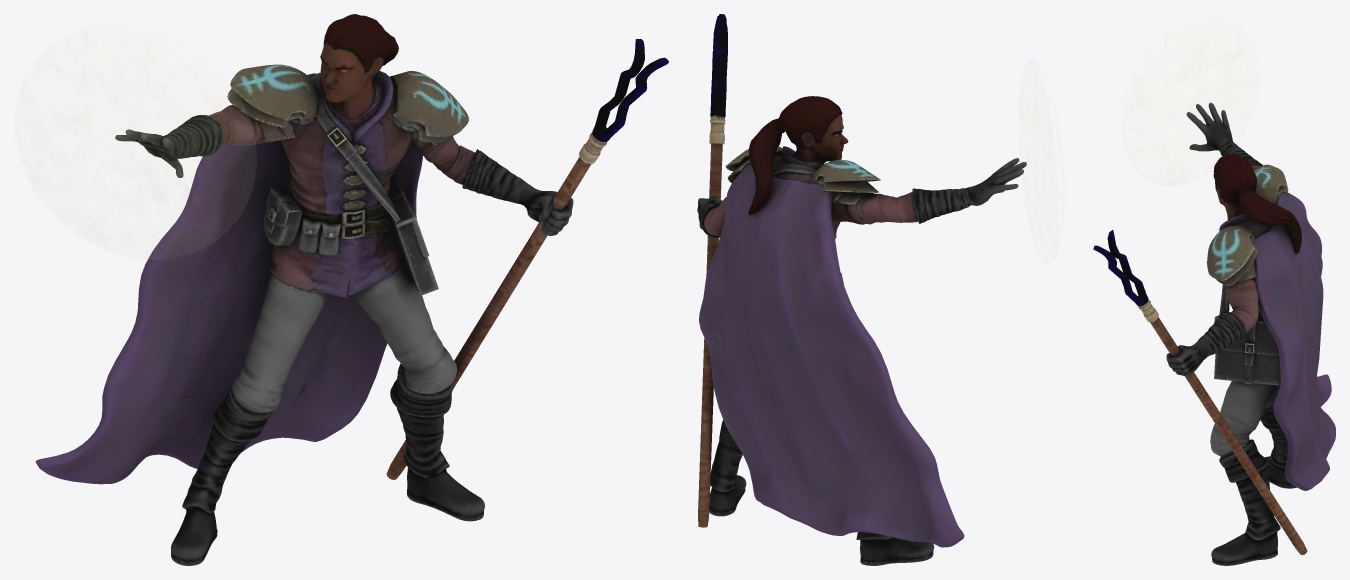
File: MZ4250 - Human Male Abjuration Wizard with Shield spell_3.glb
3 renders of one model, left to right at view 1: azimuth 30°, elevation 25°; view 2: azimuth 150°, elevation 25°; view 3: azimuth 270°, elevation 25°, orthographic. The views are drawn at different scales.
Parts seen in each view (by area): view 1: HMA3; view 2: HMA3; view 3: HMA3.
Part boxes in pixels (x1=…): HMA3: x1=35, y1=14, x2=668, y2=565; HMA3: x1=697, y1=14, x2=1026, y2=565; HMA3: x1=1093, y1=102, x2=1335, y2=565.
Size of the model in its own units: 88.72 by 93.38 by 48.95.
2 materials, 2 textured.
